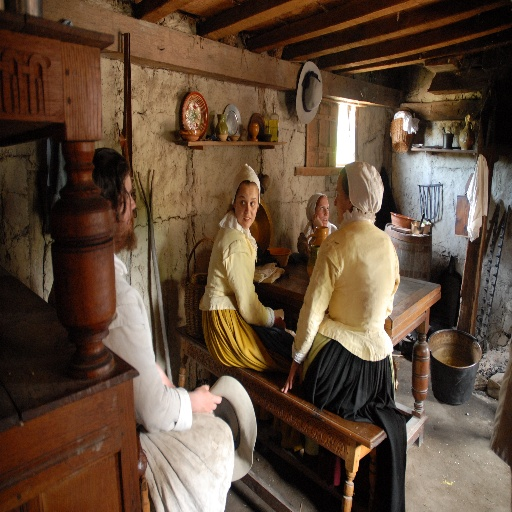hand: (190, 382, 222, 414), (279, 360, 304, 394), (309, 211, 324, 230), (272, 316, 287, 331)
